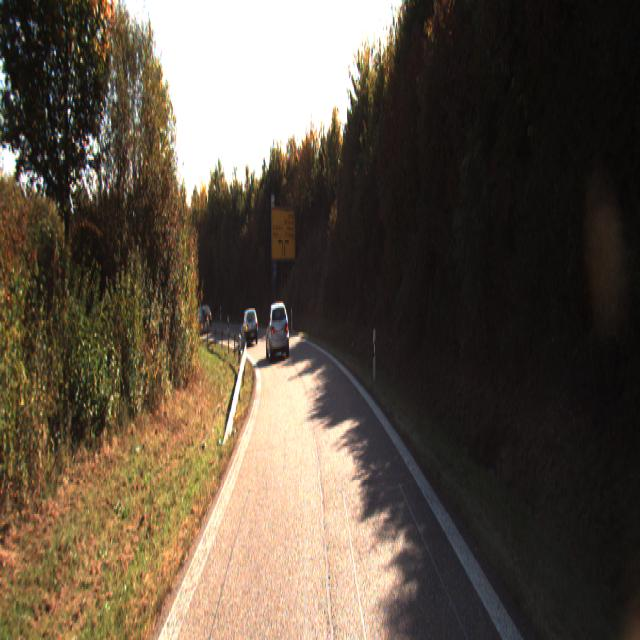Car: (265, 298, 289, 358), (240, 308, 259, 346), (193, 302, 213, 330)
